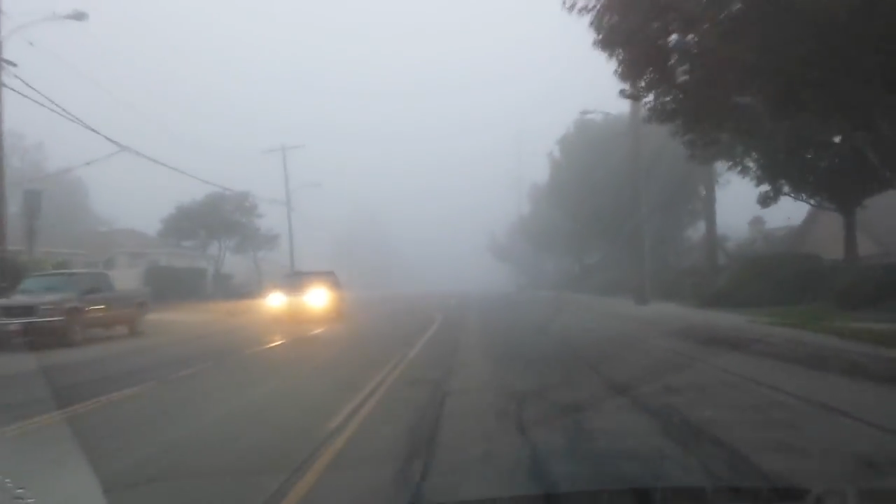car: (1, 270, 150, 346), (265, 270, 343, 320)
